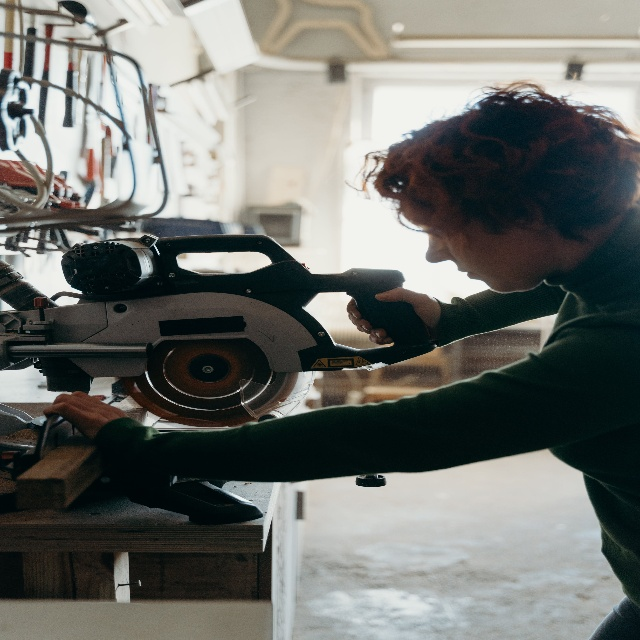Sin_guantes: (346, 287, 441, 346), (42, 390, 129, 442)
